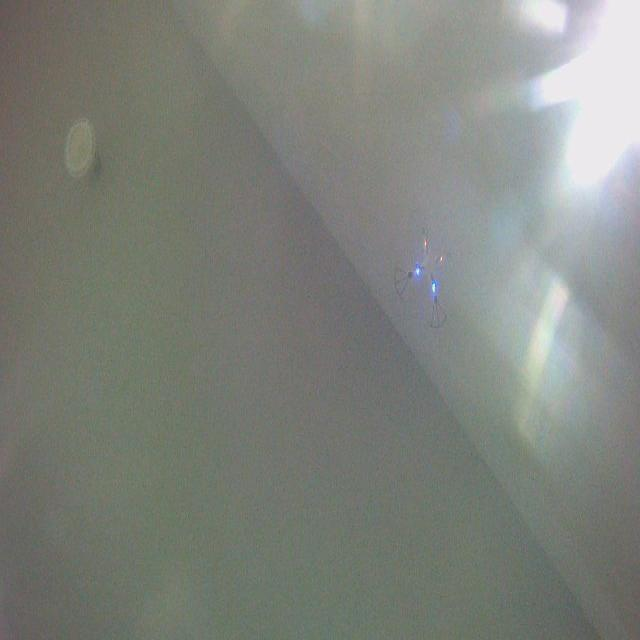drone: (392, 210, 460, 332)
